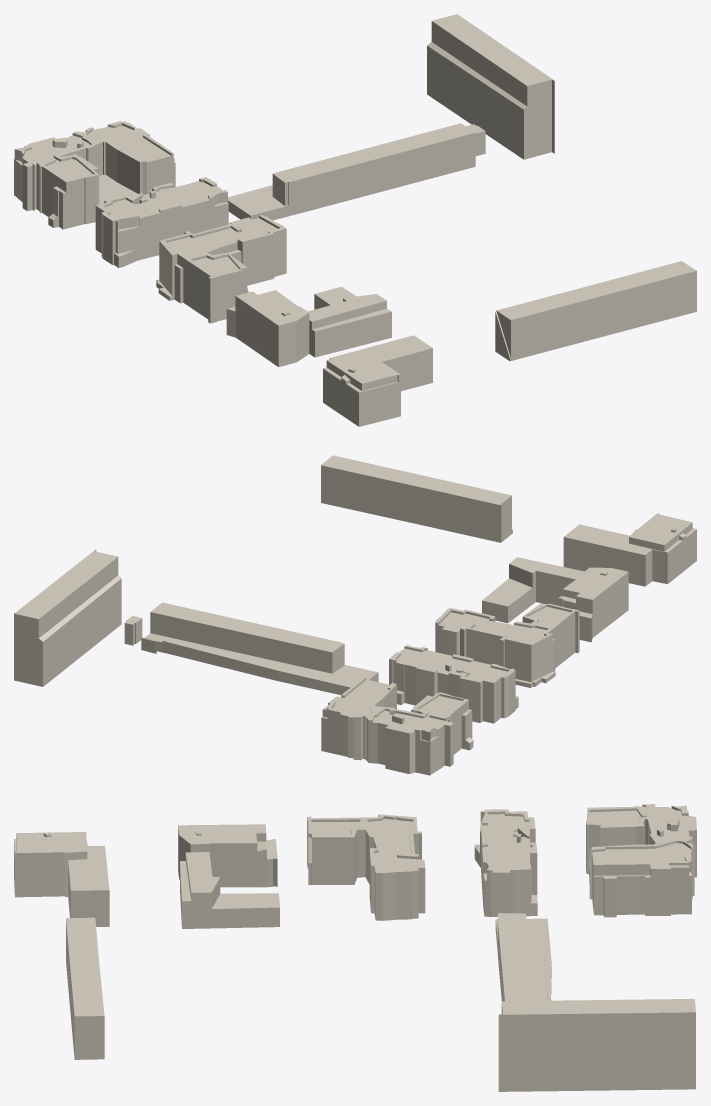
3 renders of one model, top to bottom at view 1: azimuth 30°, elevation 25°; view 2: azimuth 150°, elevation 25°; view 3: azimuth 270°, elevation 25°, orthographic. The views are drawn at different scales.
Size of the model in its own units: 176 by 27.77 by 214.
